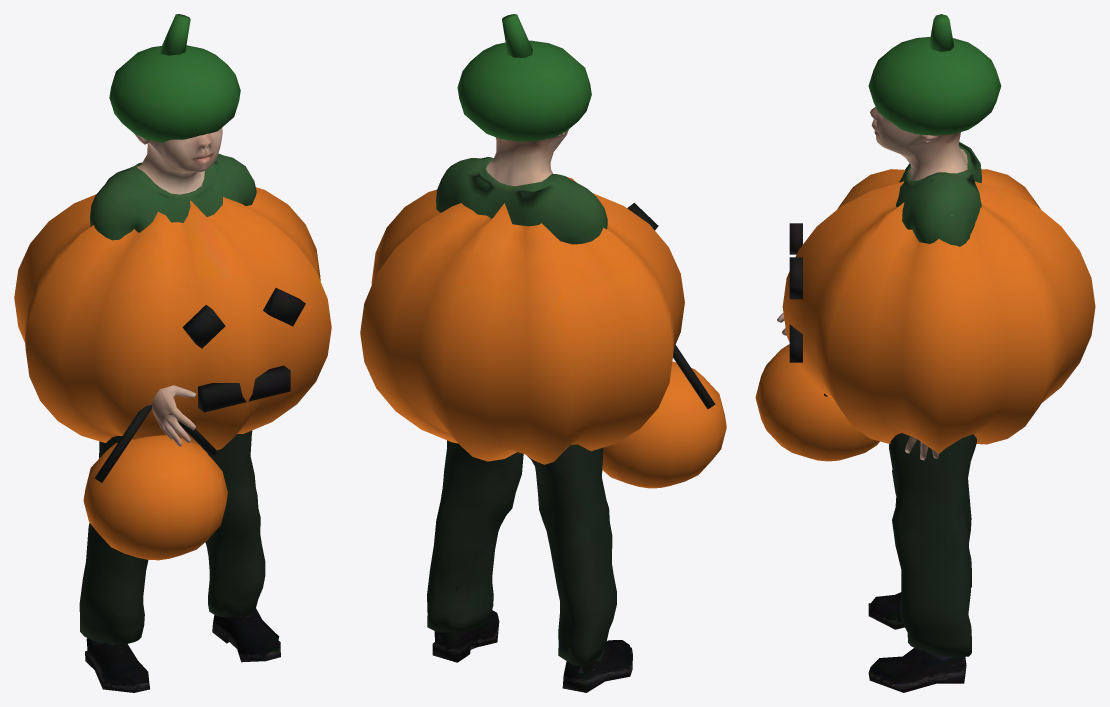
Rendered from mq-kid_pumpkin.glb.
3 views of the same model, side by side, from view 1: azimuth 30°, elevation 25°; view 2: azimuth 150°, elevation 25°; view 3: azimuth 270°, elevation 25° (orthographic). The views are drawn at different scales.
Visible parts, largest first — view 1: MQ_kid_pumpkin; view 2: MQ_kid_pumpkin; view 3: MQ_kid_pumpkin.
Part boxes in pixels (box(x1,y1,x2,y2)): MQ_kid_pumpkin: box(14, 14, 331, 692); MQ_kid_pumpkin: box(360, 14, 726, 692); MQ_kid_pumpkin: box(755, 14, 1095, 692).
Size of the model in its own units: 0.5136 by 1.06 by 0.5117.
Materials: 1 (1 with a texture image).
